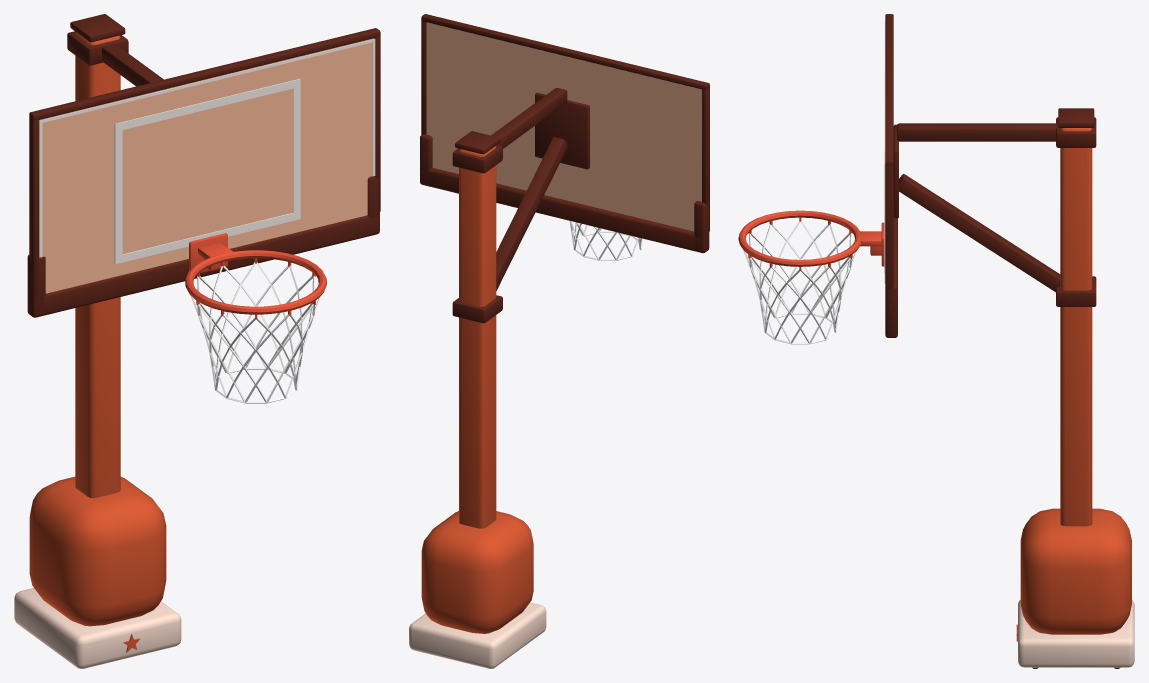
Rendered from hoop_laranja.glb.
The picture shows the model from 3 angles, left to right: view 1: azimuth 30°, elevation 25°; view 2: azimuth 150°, elevation 25°; view 3: azimuth 270°, elevation 25°; orthographic projection. The views are drawn at different scales.
Parts seen in each view (by area): view 1: Tabela, Base, Poste, Quadrado, Rede, Aro, Braco; view 2: Tabela, Base, Poste, Braco, Rede; view 3: Base, Poste, Braco, Rede, Tabela, Aro.
Part boxes in pixels (x1,y1,x2,y2): Tabela: (27, 28, 380, 317); Base: (14, 476, 181, 668); Poste: (70, 14, 125, 498); Quadrado: (114, 78, 300, 264); Rede: (190, 262, 321, 403); Aro: (185, 233, 326, 319); Braco: (67, 31, 163, 86); Tabela: (420, 14, 709, 253); Base: (409, 511, 546, 668); Poste: (455, 131, 500, 528); Braco: (452, 88, 589, 323); Rede: (569, 221, 642, 260); Base: (1016, 508, 1134, 668); Poste: (1058, 108, 1094, 526); Braco: (893, 117, 1096, 306); Rede: (743, 221, 857, 344); Tabela: (884, 14, 897, 337); Aro: (738, 210, 884, 270).
Bounding box in the file's own units: 3.3 × 5.87 × 3.73.
